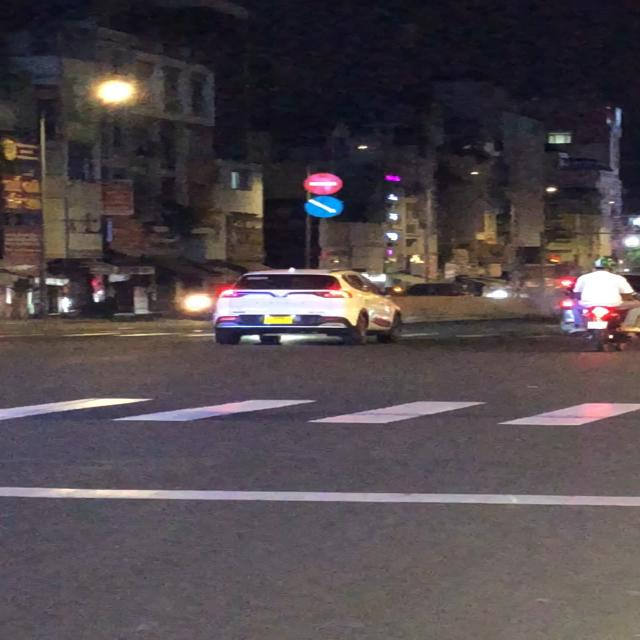Bien bao cam di nguoc chieu: (303, 173, 344, 195)
Bien bao huong phai di vong chuong ngai vat: (304, 194, 346, 220)
